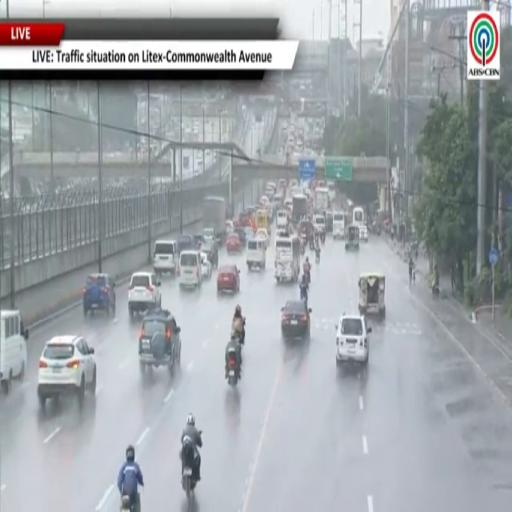bus: (353, 206, 365, 226)
car: (38, 335, 97, 407), (138, 309, 181, 376), (0, 310, 28, 394), (336, 314, 371, 365), (128, 271, 161, 317), (83, 274, 115, 315), (281, 300, 311, 339), (217, 265, 239, 293), (201, 242, 218, 267), (177, 235, 194, 253), (226, 233, 242, 252), (201, 251, 212, 278), (234, 228, 247, 245), (255, 229, 269, 244), (313, 215, 325, 232), (193, 234, 206, 249), (203, 228, 215, 242), (359, 226, 368, 242), (226, 220, 233, 233)
motorcycle: (181, 442, 197, 499), (227, 348, 239, 387), (121, 495, 140, 511), (300, 287, 308, 305), (432, 284, 439, 299), (304, 268, 310, 284), (320, 231, 325, 244), (316, 249, 320, 263), (310, 238, 314, 250), (301, 243, 305, 254)
truck: (203, 197, 226, 245), (292, 195, 307, 222), (314, 187, 329, 213)
